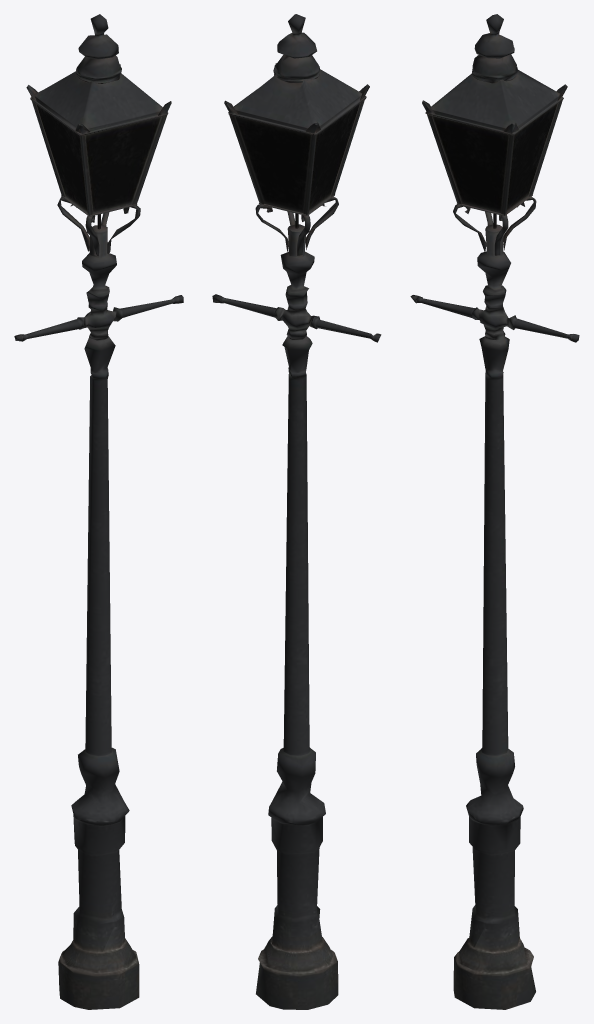
File: street_lamp_01.lod1.glb
3 views of the same model, side by side, from view 1: azimuth 30°, elevation 25°; view 2: azimuth 150°, elevation 25°; view 3: azimuth 330°, elevation 25° (orthographic).
Visible parts, largest first — view 1: street_lamp_01; view 2: street_lamp_01; view 3: street_lamp_01.
Boxes of the visible parts, left/top/right/bottom form: street_lamp_01: left=14, top=14, right=183, bottom=1009; street_lamp_01: left=212, top=14, right=381, bottom=1009; street_lamp_01: left=410, top=14, right=579, bottom=1009.
Bounding box in the file's own units: 0.6908 × 3.87 × 0.3864.
2 materials, 2 textured.
